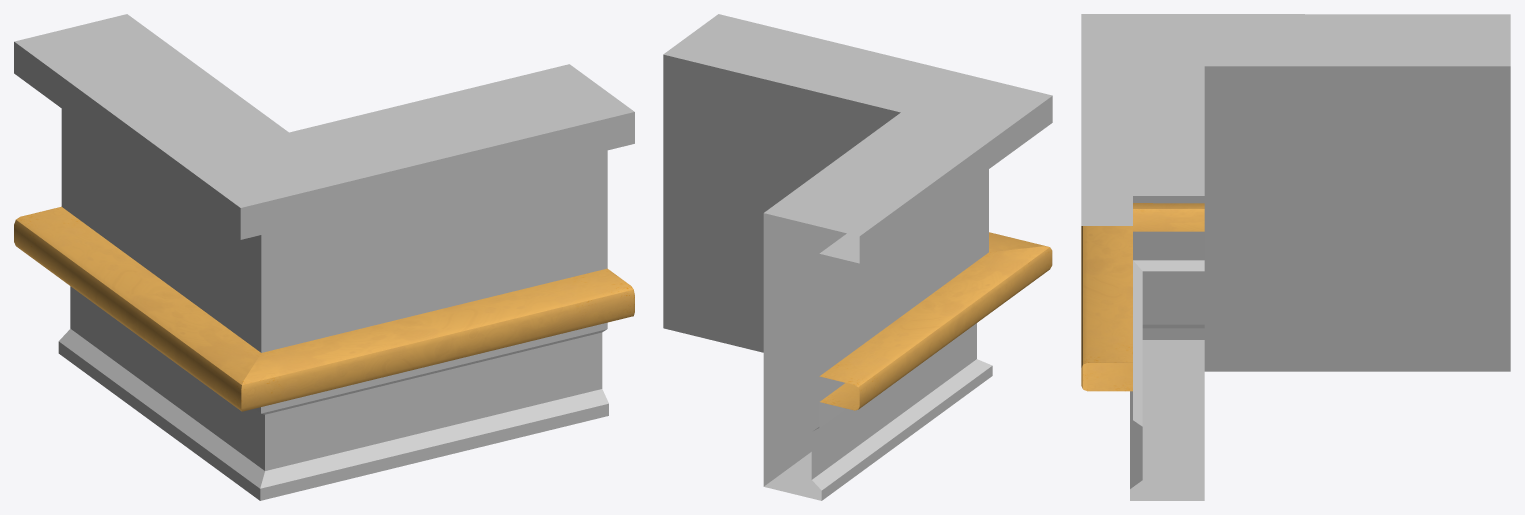
Rendered from SM_Beam_03_Corner_01.fbx.
3 views of the same model, side by side, from view 1: azimuth 30°, elevation 25°; view 2: azimuth 150°, elevation 25°; view 3: azimuth 270°, elevation 25° (orthographic). The views are drawn at different scales.
Parts seen in each view (by area): view 1: SM_Beam_03_Corner_01_LOD0; view 2: SM_Beam_03_Corner_01_LOD0; view 3: SM_Beam_03_Corner_01_LOD0.
Part boxes in pixels (x1,y1,x2,y2): SM_Beam_03_Corner_01_LOD0: (14,14,634,500); SM_Beam_03_Corner_01_LOD0: (663,14,1052,500); SM_Beam_03_Corner_01_LOD0: (1081,14,1510,500).
Size of the model in its own units: 422 by 421 by 330.
